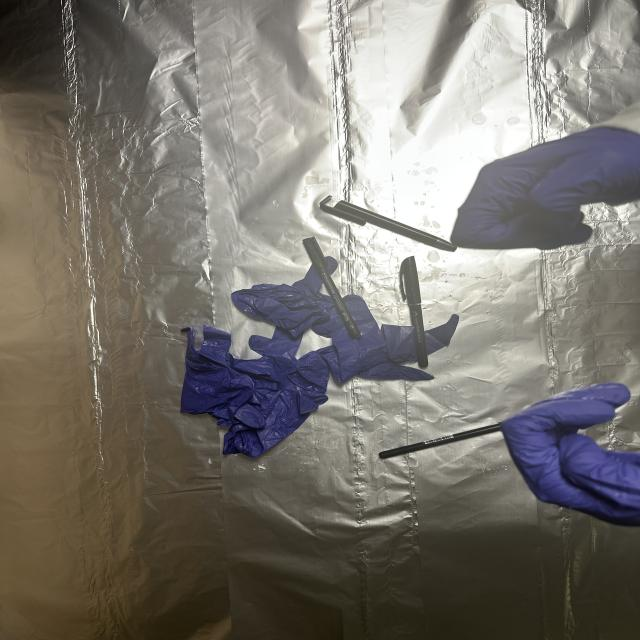gloves_contaminated: (451, 127, 640, 249), (502, 383, 640, 526)
